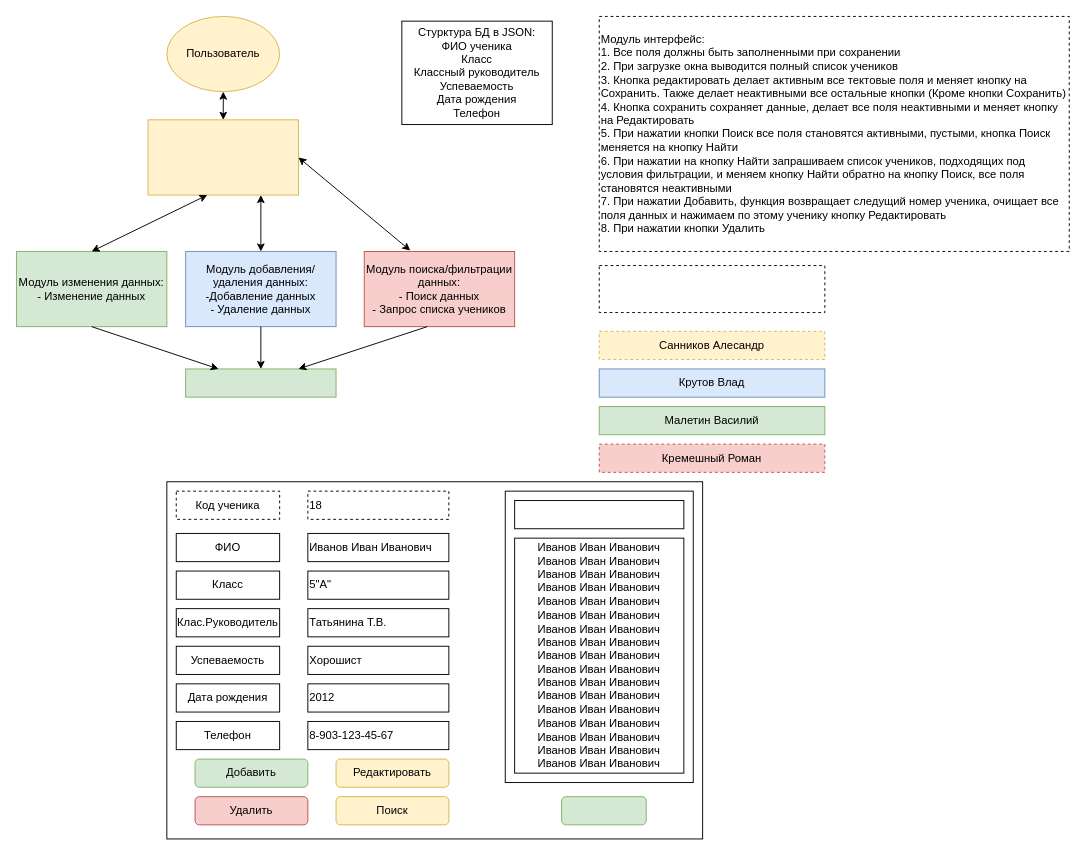
This 1086x855 diagram has some shape labels left out. The shapes that lost their labels are listed below. From the top down, each one's box as (x1, y1, x2, y2) in pixels, then its label:
(147, 119, 298, 195): Графический интерфейс программы
(598, 265, 825, 313): Добавить в Readme скриншоты для инструкции работы программы
(185, 368, 336, 397): Логирование
(514, 500, 684, 529): Ученики
(561, 796, 646, 825): Показать всех
